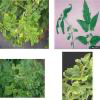Tomato leaf yellow virus: (62, 65, 86, 81), (67, 81, 89, 96), (4, 13, 11, 23), (33, 71, 40, 79), (16, 38, 23, 46), (32, 12, 39, 19), (34, 37, 41, 44), (36, 78, 42, 86), (10, 29, 16, 37), (12, 14, 17, 23), (31, 27, 38, 33), (4, 63, 10, 69), (26, 83, 32, 89), (28, 75, 35, 80), (28, 92, 33, 98), (3, 29, 6, 39), (26, 35, 30, 42), (3, 21, 8, 26), (11, 83, 14, 90), (26, 67, 29, 74), (21, 90, 26, 94), (33, 68, 38, 72), (25, 24, 29, 29), (5, 90, 8, 96), (30, 65, 33, 71), (8, 89, 11, 95), (15, 78, 18, 84), (19, 76, 23, 80), (18, 20, 22, 24), (28, 21, 32, 25), (5, 86, 8, 91), (25, 29, 28, 33), (22, 21, 26, 24), (20, 67, 23, 70), (14, 75, 17, 77)
